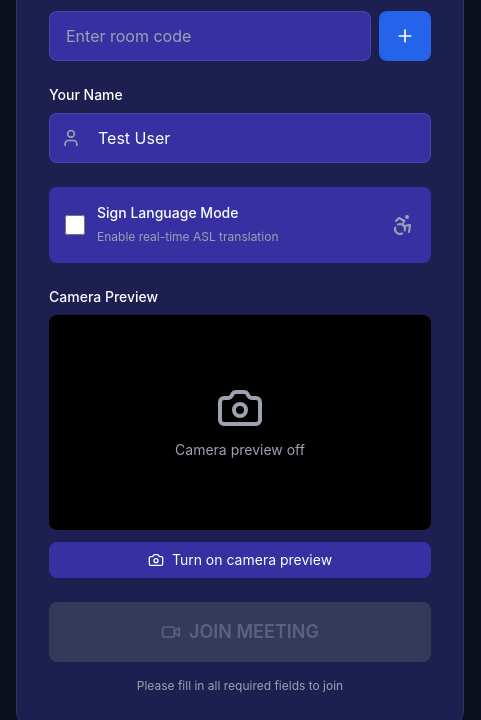
Scenario: Preservation Property Tests - Non-Camera Functionality › PRESERVATION: Camera permission denied error handling
The width and height of the screenshot is (481, 720).
(page scrolled)
# Click camera toggle button
Click the button "Turn on camera preview": click(240, 560) [49,542,431,578]
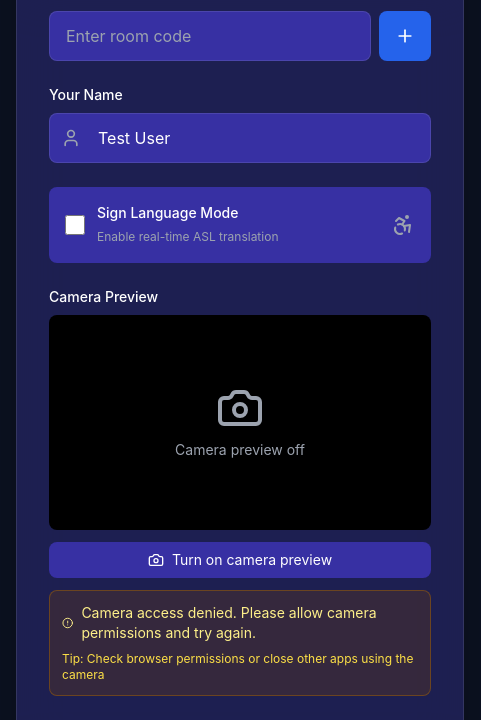
Check: the text "Please allow camera permissions and try again" is shown, box [81,604,376,641]
